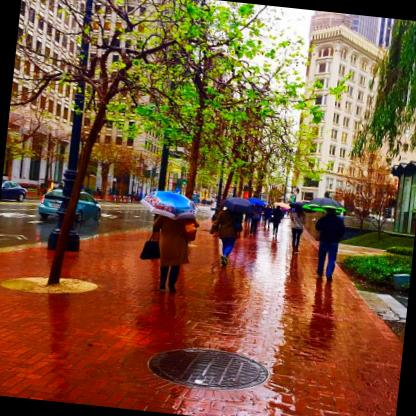manholes: (140, 318, 306, 416)
